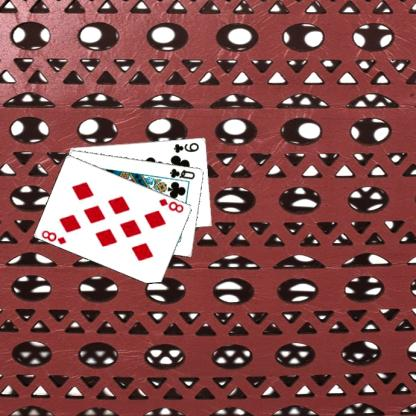8D: (156, 196, 185, 214), (39, 228, 68, 246)
9C: (171, 140, 200, 154)
QC: (167, 166, 196, 180)
